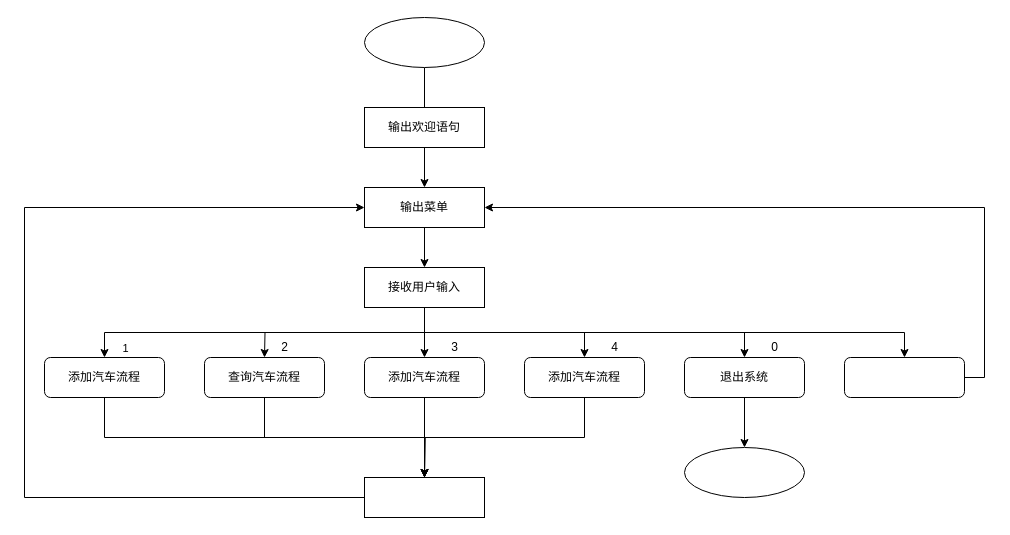
Image size: 1010x535. Some labels were removed from this diagram. Each missing label, with the centre of its shape:
其他输入 提示错误返回主菜单: (904,377)
流程结束后 返回主菜单: (424,497)
程序启动: (424,42)
程序结束: (744,472)
